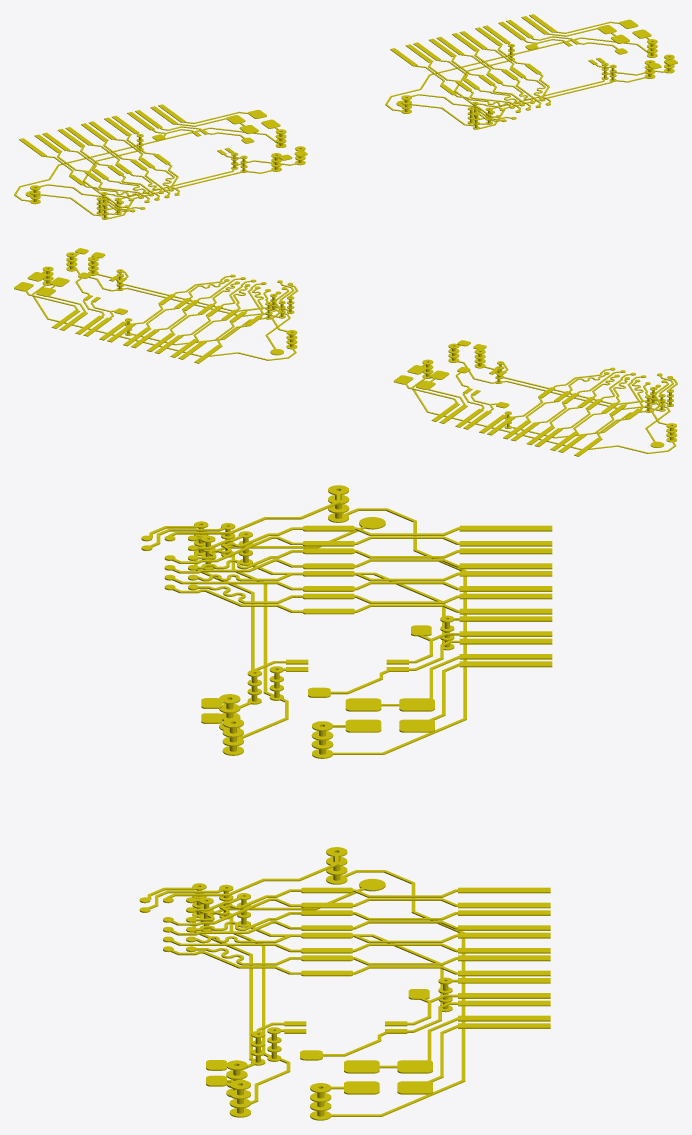
The model's file is hdmi-mipi-bridge-hs.glb.
3 views of the same model, one above another, from view 1: azimuth 30°, elevation 25°; view 2: azimuth 150°, elevation 25°; view 3: azimuth 270°, elevation 25° (orthographic). The views are drawn at different scales.
Visible parts, largest first — view 1: =>[0:1:1:2], =>[0:1:1:3], =>[0:1:1:4]; view 2: =>[0:1:1:2], =>[0:1:1:3], =>[0:1:1:4]; view 3: =>[0:1:1:2], =>[0:1:1:3], =>[0:1:1:4].
Boxes of the visible parts, x1,y1,x2,y2 form: =>[0:1:1:2]: (14, 21, 674, 219); =>[0:1:1:3]: (19, 14, 677, 212); =>[0:1:1:4]: (33, 40, 670, 218); =>[0:1:1:2]: (25, 252, 677, 453); =>[0:1:1:3]: (14, 248, 672, 456); =>[0:1:1:4]: (46, 253, 673, 440); =>[0:1:1:2]: (147, 485, 466, 1120); =>[0:1:1:3]: (139, 517, 552, 1094); =>[0:1:1:4]: (196, 488, 449, 1116).
Bounding box in the file's own units: 0.0406 × 0.000898 × 0.0116.
